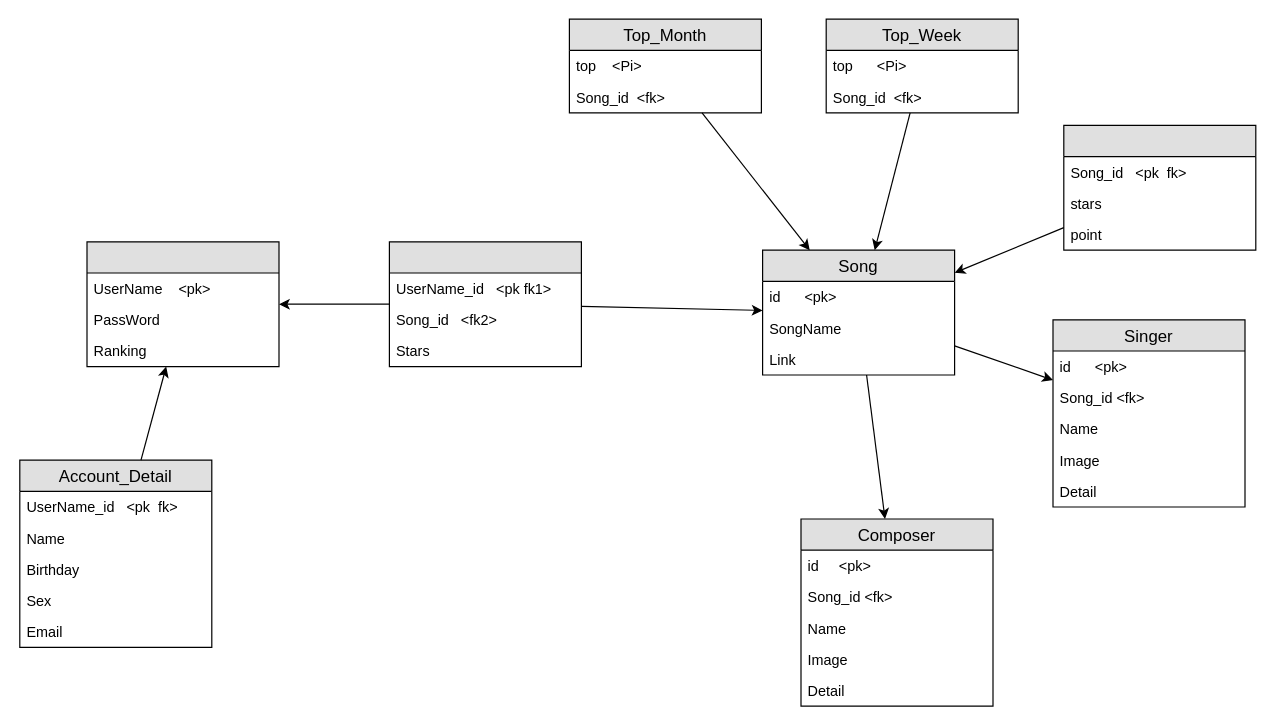
Image size: 1276x726. Some labels were removed from this diagram. Here are the shapes that lost their labels. From the top down, the box of each, then its label:
(1063, 124, 1256, 250): Vote_Song
(86, 241, 279, 367): Account
(388, 241, 581, 367): History_Vote
